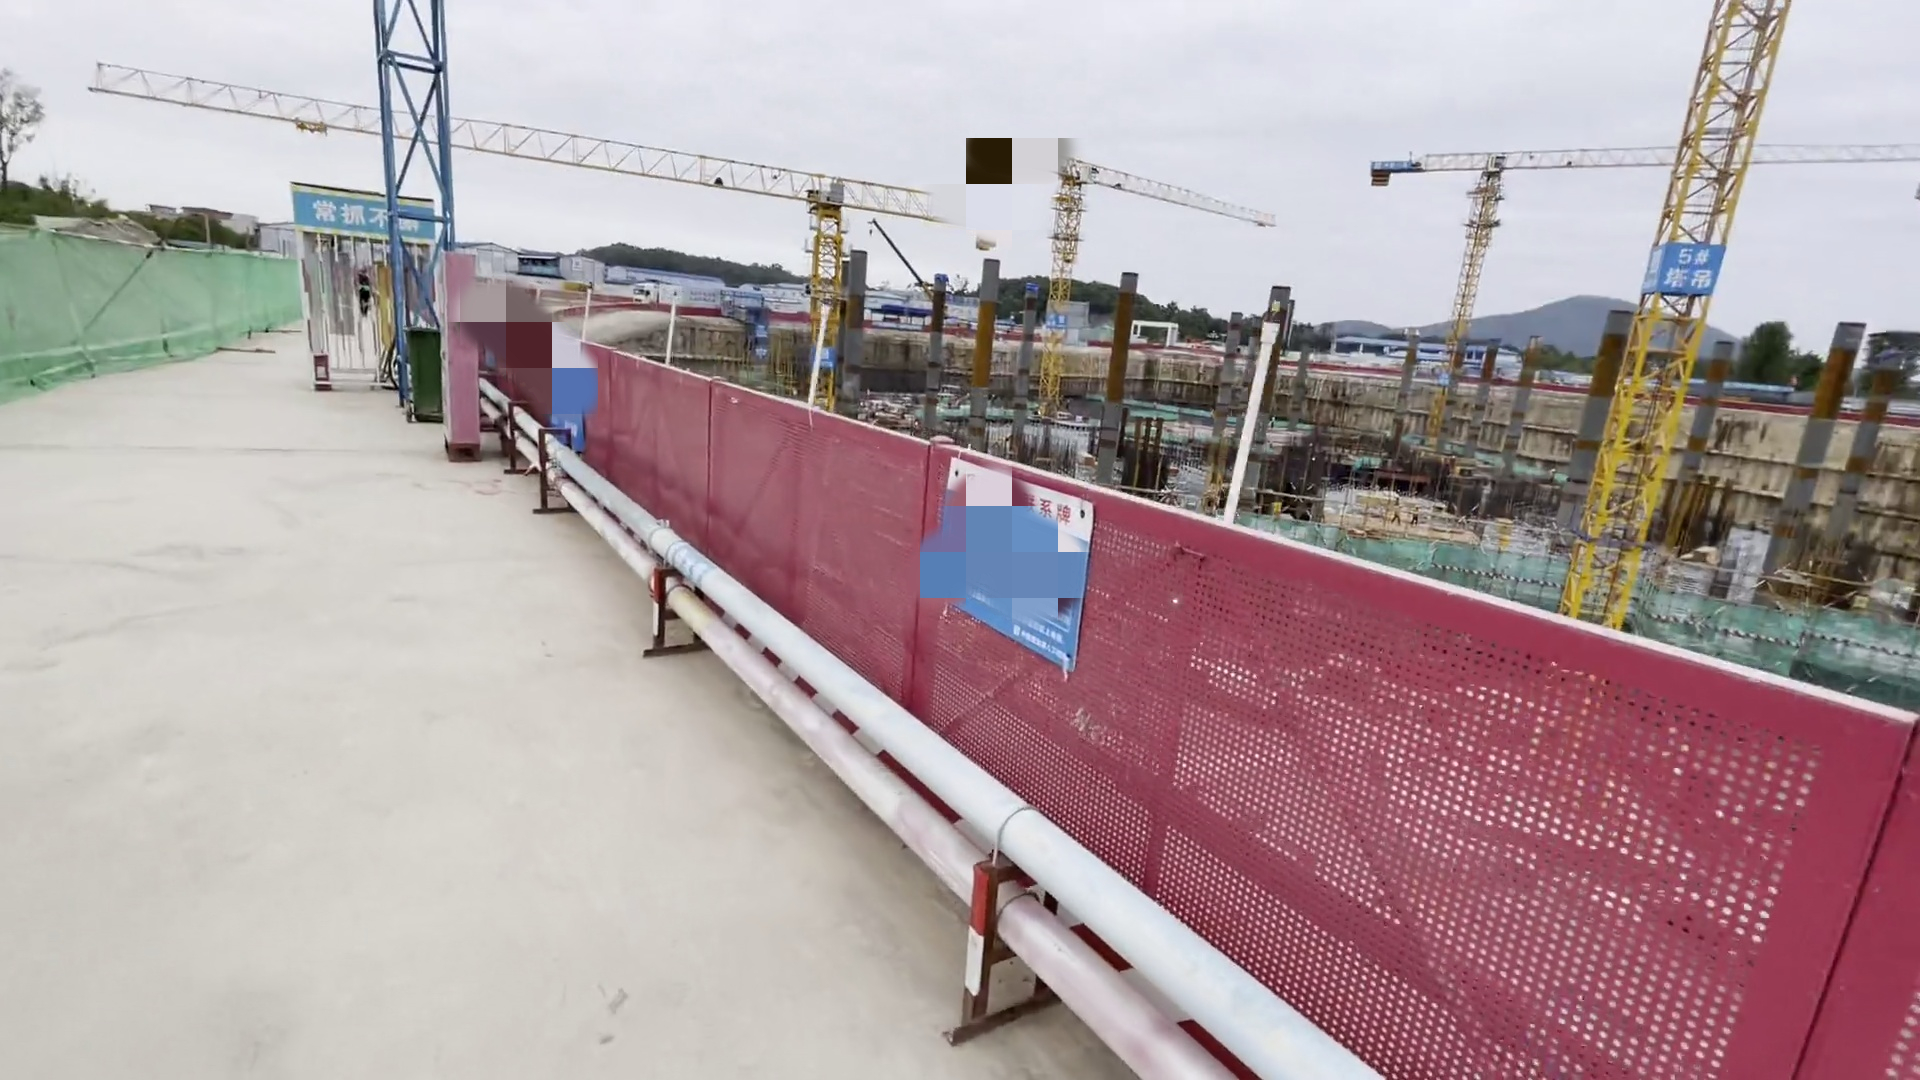fence: (531, 316, 1858, 1046)
slogan: (901, 409, 1073, 679), (535, 334, 596, 454), (310, 193, 446, 237)
